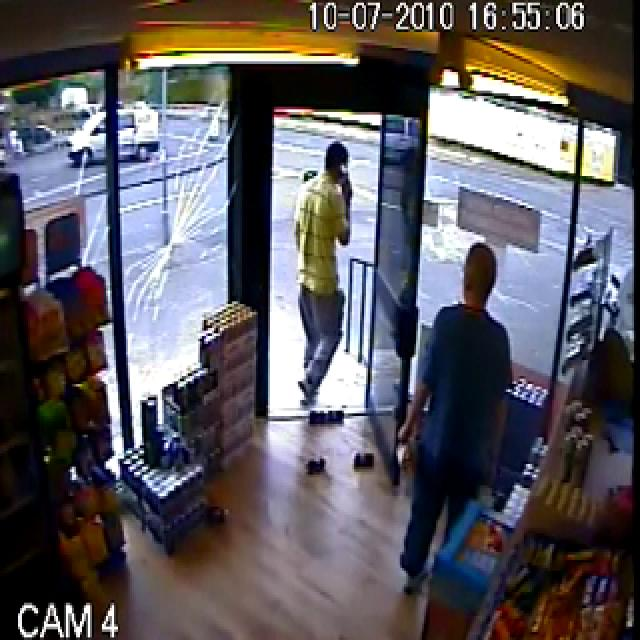vandalism: (87, 39, 378, 560)
